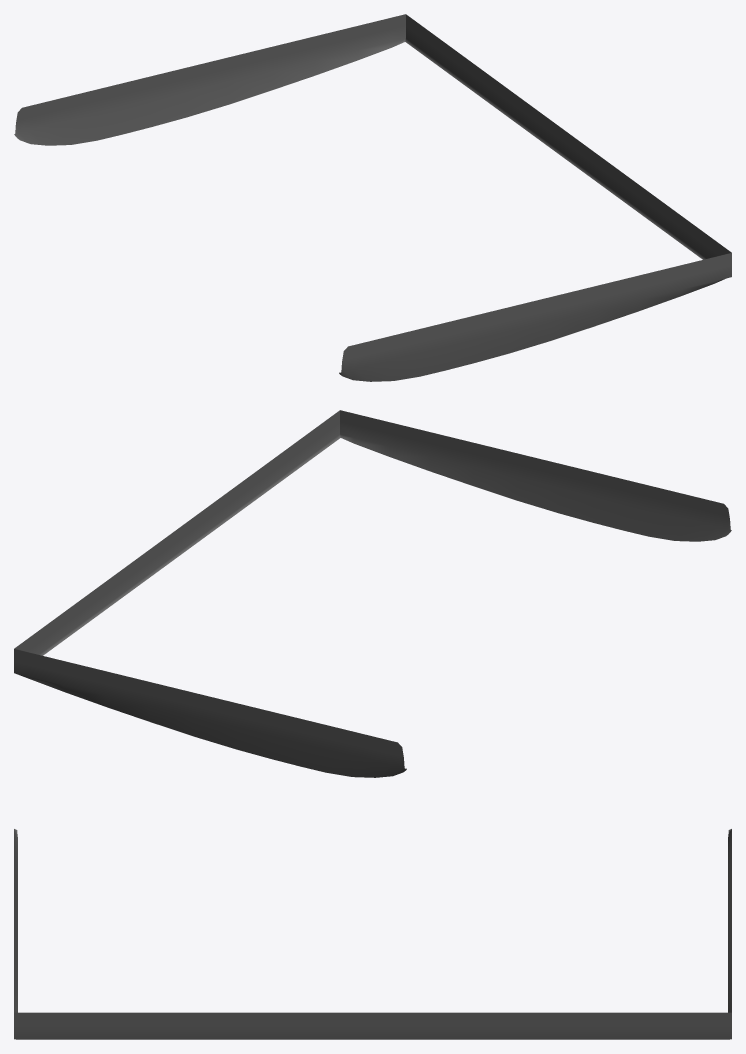
File: Book_23_book_front_23_1.obj
The picture shows the model from 3 angles, top to bottom: view 1: azimuth 30°, elevation 25°; view 2: azimuth 150°, elevation 25°; view 3: azimuth 270°, elevation 25°; orthographic projection. The views are drawn at different scales.
Size of the model in its own units: 0.2157 by 0.0261 by 0.3109.
Materials: 1 (1 with a texture image).
